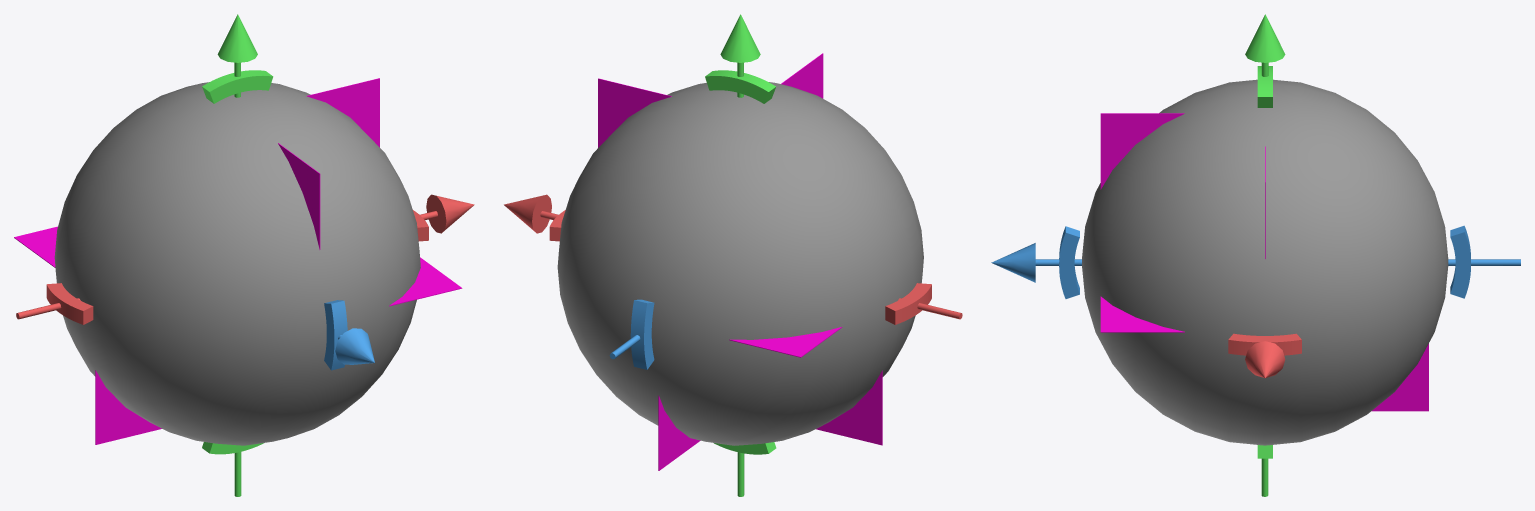
The model's file is AxisWidget.dae.
3 renders of one model, left to right at view 1: azimuth 30°, elevation 25°; view 2: azimuth 150°, elevation 25°; view 3: azimuth 270°, elevation 25°, orthographic.
Parts seen in each view (by area): view 1: _28_IBL, _16_agf_translate_xy_hovermask-Pivot, _22_agf_translate_xy_backup_hovermask01-Pivot, _06_agf_rotate_Y-Pivot, _15_agf_translate_yz_hovermask-Pivot, _14_agf_translate_xz_hovermask-Pivot, _09_agf_rotate_Z-Pivot, _08_agf_translate_Z2, _05_agf_translate_Y2, _03_agf_rotate_X_CLONE-Pivot, _02_agf_translate_X2, _20_agf_translate_xz_backup_hovermask-Pivot; view 2: _28_IBL, _16_agf_translate_xy_hovermask-Pivot, _22_agf_translate_xy_backup_hovermask01-Pivot, _06_agf_rotate_Y-Pivot, _09_agf_rotate_Z_CLONE-Pivot, _21_agf_translate_yz_backup_hovermask01-Pivot, _20_agf_translate_xz_backup_hovermask-Pivot, _05_agf_translate_Y2, _03_agf_rotate_X_CLONE-Pivot, _02_agf_translate_X2, _15_agf_translate_yz_hovermask-Pivot; view 3: _28_IBL, _15_agf_translate_yz_hovermask-Pivot, _21_agf_translate_yz_backup_hovermask01-Pivot, _14_agf_translate_xz_hovermask-Pivot, _09_agf_rotate_Z-Pivot, _09_agf_rotate_Z_CLONE-Pivot, _02_agf_translate_X2, _05_agf_translate_Y2, _03_agf_rotate_X-Pivot, _08_agf_translate_Z2, _06_agf_rotate_Y-Pivot.
Part boxes in pixels (bbox=[...]): _28_IBL: bbox=[54, 82, 420, 445]; _16_agf_translate_xy_hovermask-Pivot: bbox=[306, 78, 379, 147]; _22_agf_translate_xy_backup_hovermask01-Pivot: bbox=[95, 370, 161, 444]; _06_agf_rotate_Y-Pivot: bbox=[202, 70, 273, 103]; _15_agf_translate_yz_hovermask-Pivot: bbox=[278, 143, 320, 249]; _14_agf_translate_xz_hovermask-Pivot: bbox=[389, 257, 462, 306]; _09_agf_rotate_Z-Pivot: bbox=[324, 300, 347, 370]; _08_agf_translate_Z2: bbox=[335, 328, 374, 364]; _05_agf_translate_Y2: bbox=[217, 14, 257, 62]; _03_agf_rotate_X_CLONE-Pivot: bbox=[46, 283, 93, 324]; _02_agf_translate_X2: bbox=[426, 194, 474, 233]; _20_agf_translate_xz_backup_hovermask-Pivot: bbox=[14, 226, 57, 267]; _28_IBL: bbox=[557, 82, 923, 445]; _16_agf_translate_xy_hovermask-Pivot: bbox=[598, 78, 671, 147]; _22_agf_translate_xy_backup_hovermask01-Pivot: bbox=[816, 370, 882, 445]; _06_agf_rotate_Y-Pivot: bbox=[705, 70, 776, 103]; _09_agf_rotate_Z_CLONE-Pivot: bbox=[630, 299, 654, 369]; _21_agf_translate_yz_backup_hovermask01-Pivot: bbox=[658, 395, 700, 470]; _20_agf_translate_xz_backup_hovermask-Pivot: bbox=[729, 327, 842, 357]; _05_agf_translate_Y2: bbox=[720, 14, 760, 62]; _03_agf_rotate_X_CLONE-Pivot: bbox=[885, 283, 931, 324]; _02_agf_translate_X2: bbox=[504, 194, 551, 233]; _15_agf_translate_yz_hovermask-Pivot: bbox=[781, 53, 823, 98]; _28_IBL: bbox=[1082, 79, 1448, 445]; _15_agf_translate_yz_hovermask-Pivot: bbox=[1100, 113, 1184, 189]; _21_agf_translate_yz_backup_hovermask01-Pivot: bbox=[1371, 343, 1428, 411]; _14_agf_translate_xz_hovermask-Pivot: bbox=[1100, 296, 1184, 332]; _09_agf_rotate_Z-Pivot: bbox=[1059, 226, 1079, 298]; _09_agf_rotate_Z_CLONE-Pivot: bbox=[1450, 225, 1470, 298]; _02_agf_translate_X2: bbox=[1245, 341, 1285, 378]; _05_agf_translate_Y2: bbox=[1245, 14, 1285, 62]; _03_agf_rotate_X-Pivot: bbox=[1228, 333, 1301, 355]; _08_agf_translate_Z2: bbox=[991, 243, 1035, 282]; _06_agf_rotate_Y-Pivot: bbox=[1257, 66, 1272, 107].
Size of the model in its own units: 689 by 694 by 692.
